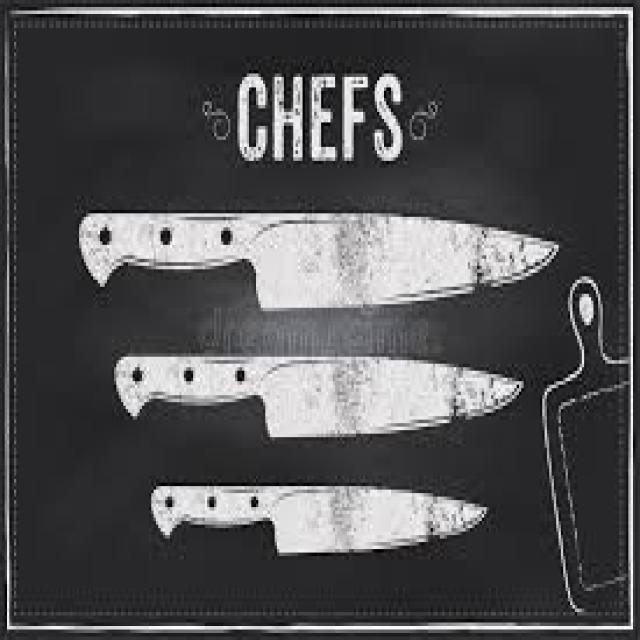Knife: (77, 206, 558, 308), (111, 350, 524, 440), (149, 479, 489, 556)
